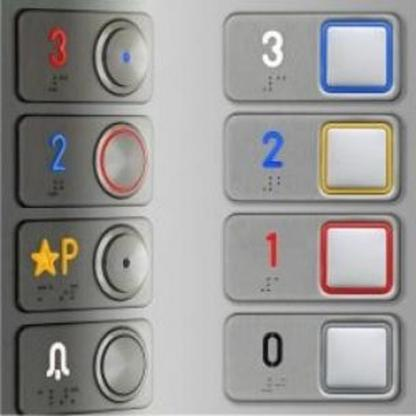0: (218, 306, 403, 405)
1: (217, 208, 403, 305)
2: (218, 107, 403, 206), (11, 111, 155, 211)
3: (218, 5, 405, 106), (11, 7, 155, 104)
alarm: (11, 315, 155, 415)
sP: (10, 212, 155, 315)
